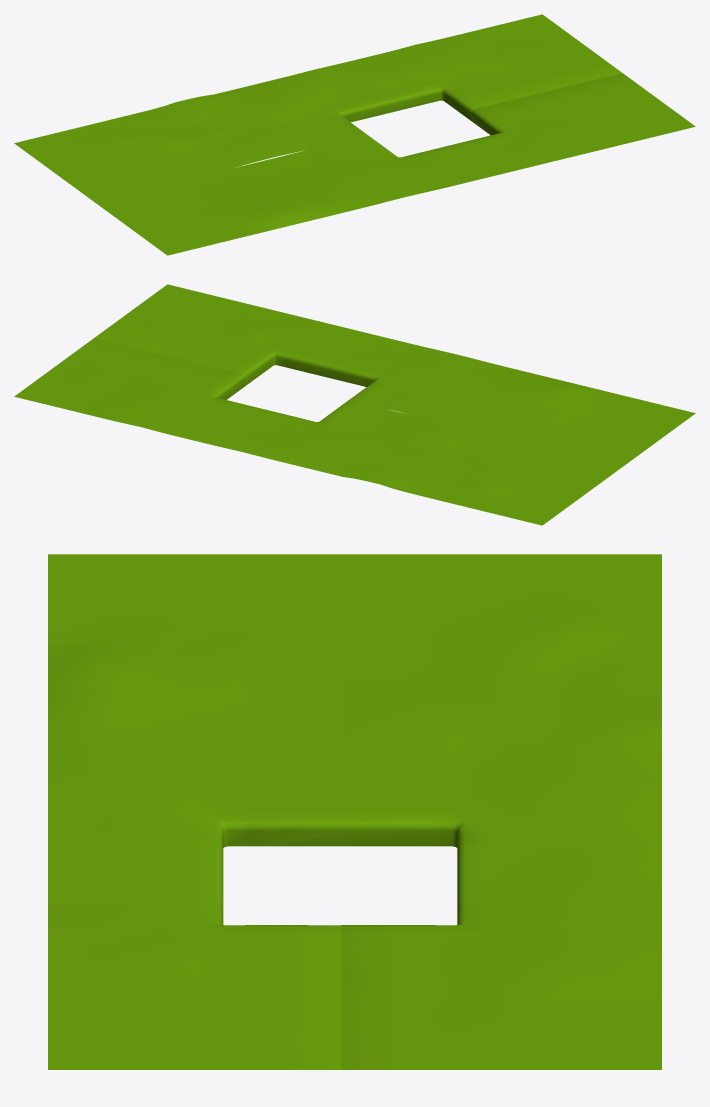
File: ground_grass.fbx
3 views of the same model, one above another, from view 1: azimuth 30°, elevation 25°; view 2: azimuth 150°, elevation 25°; view 3: azimuth 270°, elevation 25° (orthographic). The views are drawn at different scales.
Visible parts, largest first — view 1: ground_grass; view 2: ground_grass; view 3: ground_grass.
Boxes of the visible parts, bbox=[...] form: ground_grass: bbox=[14, 14, 695, 255]; ground_grass: bbox=[14, 284, 695, 525]; ground_grass: bbox=[48, 554, 661, 1069].
Bounding box in the file's own units: 1902 × 51.22 × 957.
